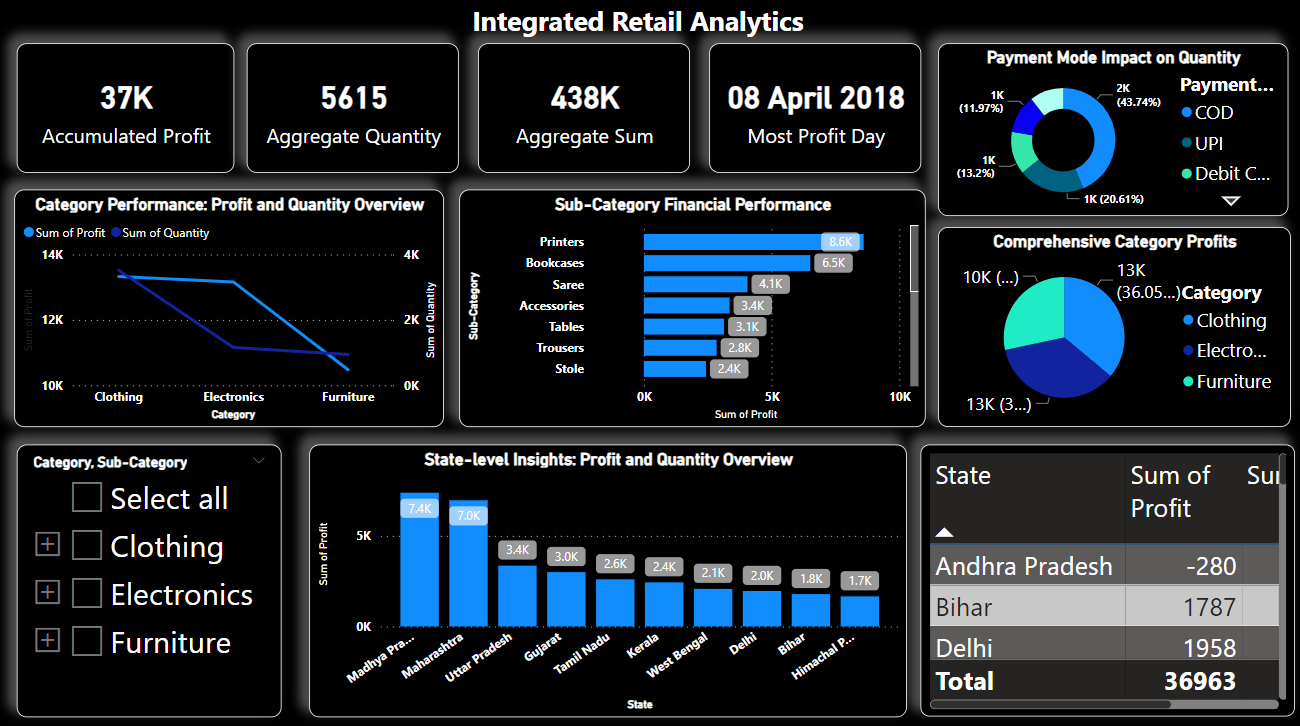

This screenshot's page, from the dashboard's own definition file:
{"tool":"powerbi","page":{"name":"sales overview","canvas":[1302,729],"ordinal":0},"visuals":[{"type":"pieChart","title":"Comprehensive Category Profits","fields":{"Category":["Details.Category"],"Y":["Details.Profit"]},"box":[940.5,229.7,352.7,200],"z":0},{"type":"textbox","box":[0,0,1279.7,45.9],"z":1000},{"type":"tableEx","title":"Geospatial Analysis","fields":{"Values":["Orders.State","Details.Profit","Details.Quantity"]},"box":[922.4,447.8,374.6,271.6],"z":2000},{"type":"barChart","title":"Sub-Category Financial Performance","fields":{"Category":["Details.Sub-Category"],"Y":["Details.Profit"]},"box":[460.8,191.9,466.2,237.8],"z":3000},{"type":"donutChart","title":"Payment Mode Impact on Quantity","fields":{"Category":["Details.PaymentMode"],"Y":["Details.Quantity"]},"box":[940.5,45.9,350,173],"z":4000},{"type":"lineChart","title":"Category Performance: Profit and Quantity Overview","fields":{"Category":["Details.Category"],"Y":["Details.Profit"],"Y2":["Details.Quantity"]},"box":[16.2,191.9,429.7,237.8],"z":5000},{"type":"slicer","fields":{"Values":["Details.Category","Details.Sub-Category"]},"box":[18.9,447.3,264.9,273],"z":6000},{"type":"card","fields":{"Values":["Details.Profit"]},"box":[18.9,45.9,217.6,129.7],"z":7000},{"type":"card","fields":{"Values":["Details.Quantity"]},"box":[248.6,45.9,212.2,129.7],"z":8000},{"type":"card","fields":{"Values":["Details.Amount"]},"box":[480,45.9,212.2,129.7],"z":9000},{"type":"card","fields":{"Values":["Orders.Order Date"]},"box":[710.8,45.9,212,129.7],"z":10000},{"type":"columnChart","title":"State-level Insights: Profit and Quantity Overview","fields":{"Category":["Orders.State"],"Y":["Details.Profit"]},"box":[310.8,447.3,597.3,273],"z":11000}]}

Visuals, with their boxes in screenshot pixels (x1, y1, x2, y2), scaled from the page's 1302x729 canvas onto the 1300x726 screenshot:
"Comprehensive Category Profits" pieChart: <bbox>939, 229, 1291, 428</bbox>
textbox: <bbox>0, 0, 1278, 46</bbox>
"Geospatial Analysis" tableEx: <bbox>921, 446, 1295, 716</bbox>
"Sub-Category Financial Performance" barChart: <bbox>460, 191, 926, 428</bbox>
"Payment Mode Impact on Quantity" donutChart: <bbox>939, 46, 1289, 218</bbox>
"Category Performance: Profit and Quantity Overview" lineChart: <bbox>16, 191, 445, 428</bbox>
slicer - Details.Category x Details.Sub-Category: <bbox>19, 445, 283, 717</bbox>
card - Details.Profit: <bbox>19, 46, 236, 175</bbox>
card - Details.Quantity: <bbox>248, 46, 460, 175</bbox>
card - Details.Amount: <bbox>479, 46, 691, 175</bbox>
card - Orders.Order Date: <bbox>710, 46, 921, 175</bbox>
"State-level Insights: Profit and Quantity Overview" columnChart: <bbox>310, 445, 907, 717</bbox>
